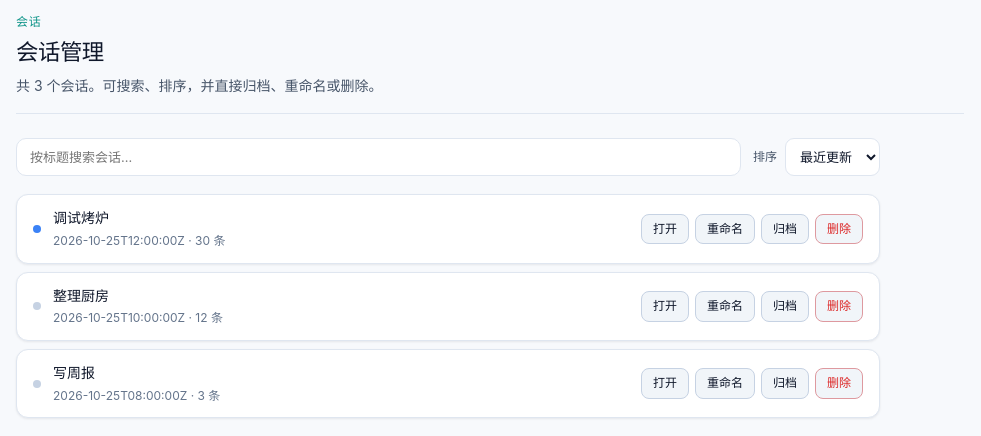
SessionsPage › filters sessions by title via the search box
This screenshot has width=981, height=436.
Type "烤炉" into the search field labelled "搜索会话" at (378, 158), box x1=16 y1=138 x2=741 y2=176
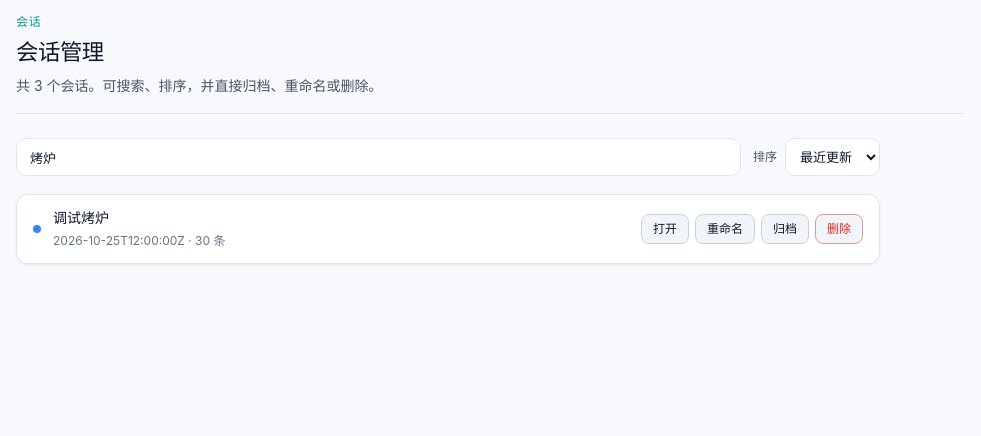
Expected: the text "调试烤炉" is shown, x1=53 y1=210 x2=109 y2=226
Expected: the text "整理厨房" is gone
Expected: the text "写周报" is gone
Replace the text in the search field named "搜索会话" with "不存在" at (378, 158), box x1=16 y1=138 x2=741 y2=176
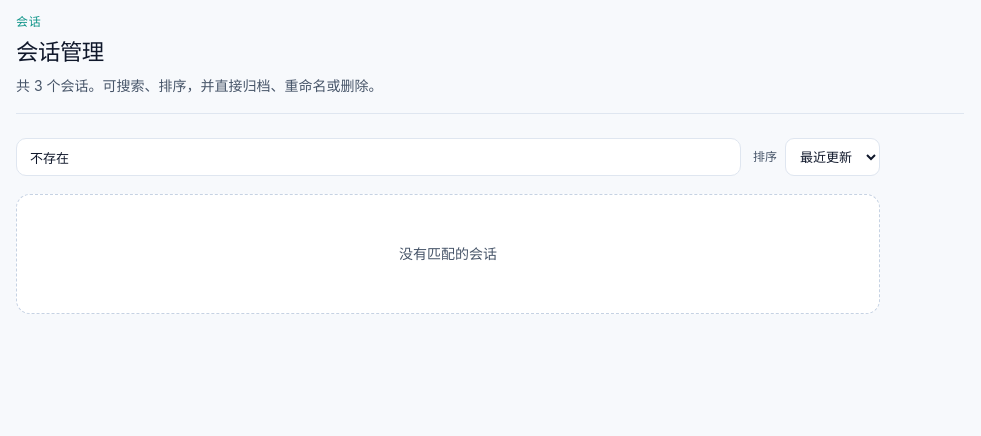
Expected: the text "没有匹配的会话" is shown, x1=16 y1=194 x2=880 y2=314
